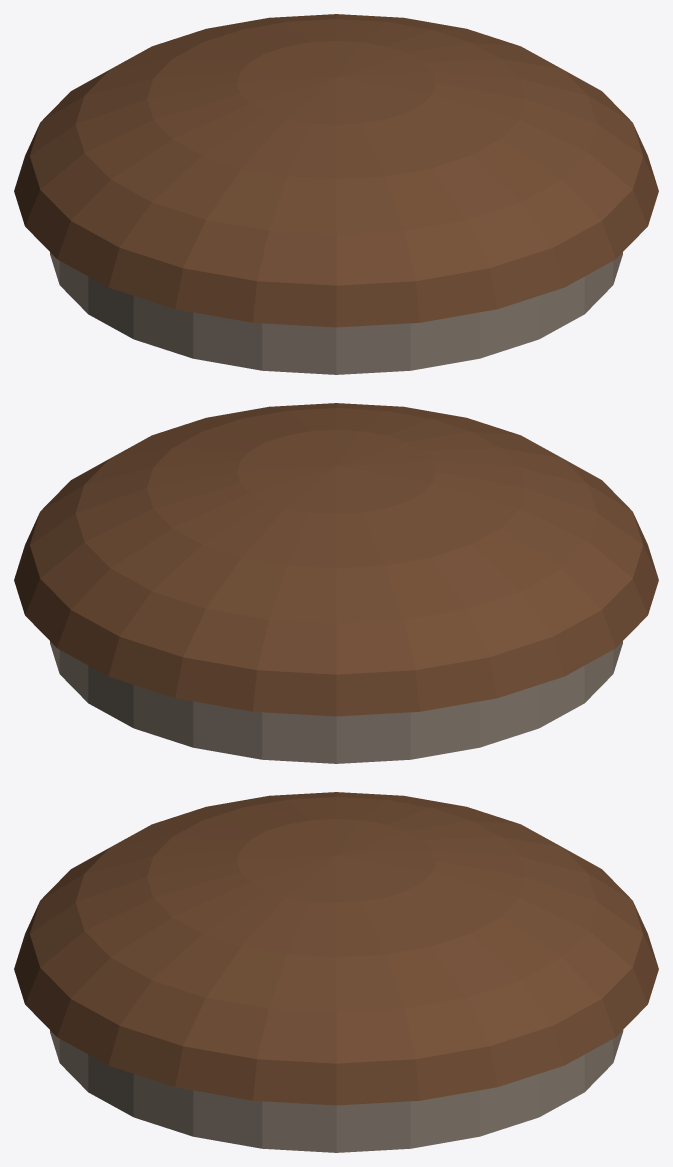
File: palacio_deportes.glb
The picture shows the model from 3 angles, top to bottom: view 1: azimuth 30°, elevation 25°; view 2: azimuth 150°, elevation 25°; view 3: azimuth 270°, elevation 25°; orthographic projection.
Visible parts, largest first — view 1: chunk_0_0; view 2: chunk_0_0; view 3: chunk_0_0.
Part boxes in pixels (x1,y1,x2,y2): chunk_0_0: (14,14,658,374); chunk_0_0: (14,403,658,763); chunk_0_0: (14,792,658,1152).
Size of the model in its own units: 154 by 46.5 by 154.
